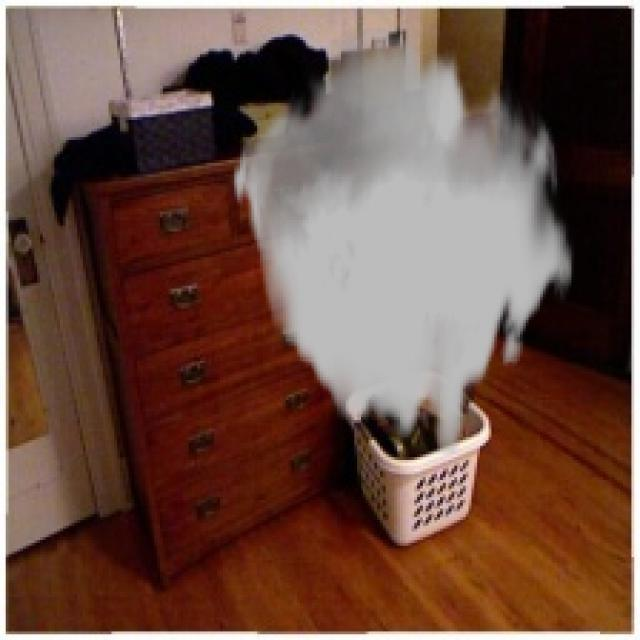Smoke: (232, 28, 574, 454)
